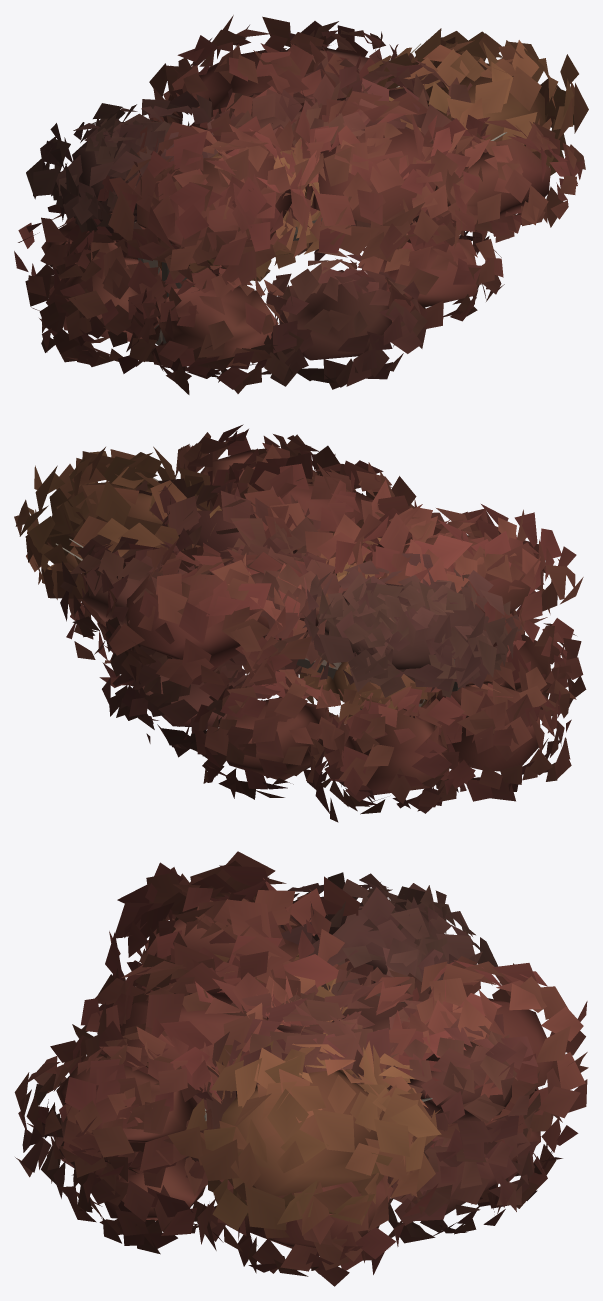
File: nire_d.glb
The picture shows the model from 3 angles, top to bottom: view 1: azimuth 30°, elevation 25°; view 2: azimuth 150°, elevation 25°; view 3: azimuth 270°, elevation 25°; orthographic projection. The views are drawn at different scales.
Visible parts, largest first — view 1: NireDHojas, NireDCopa, NireD; view 2: NireDHojas, NireDCopa; view 3: NireDHojas, NireDCopa.
Part boxes in pixels (left/top/right/bottom): NireDHojas: left=14, top=15, right=588, bottom=394; NireDCopa: left=41, top=48, right=550, bottom=368; NireD: left=134, top=43, right=506, bottom=345; NireDHojas: left=14, top=424, right=586, bottom=822; NireDCopa: left=66, top=449, right=551, bottom=795; NireDHojas: left=14, top=851, right=588, bottom=1286; NireDCopa: left=53, top=903, right=553, bottom=1248.
Bounding box in the file's own units: 4.95 × 2.08 × 3.78.
